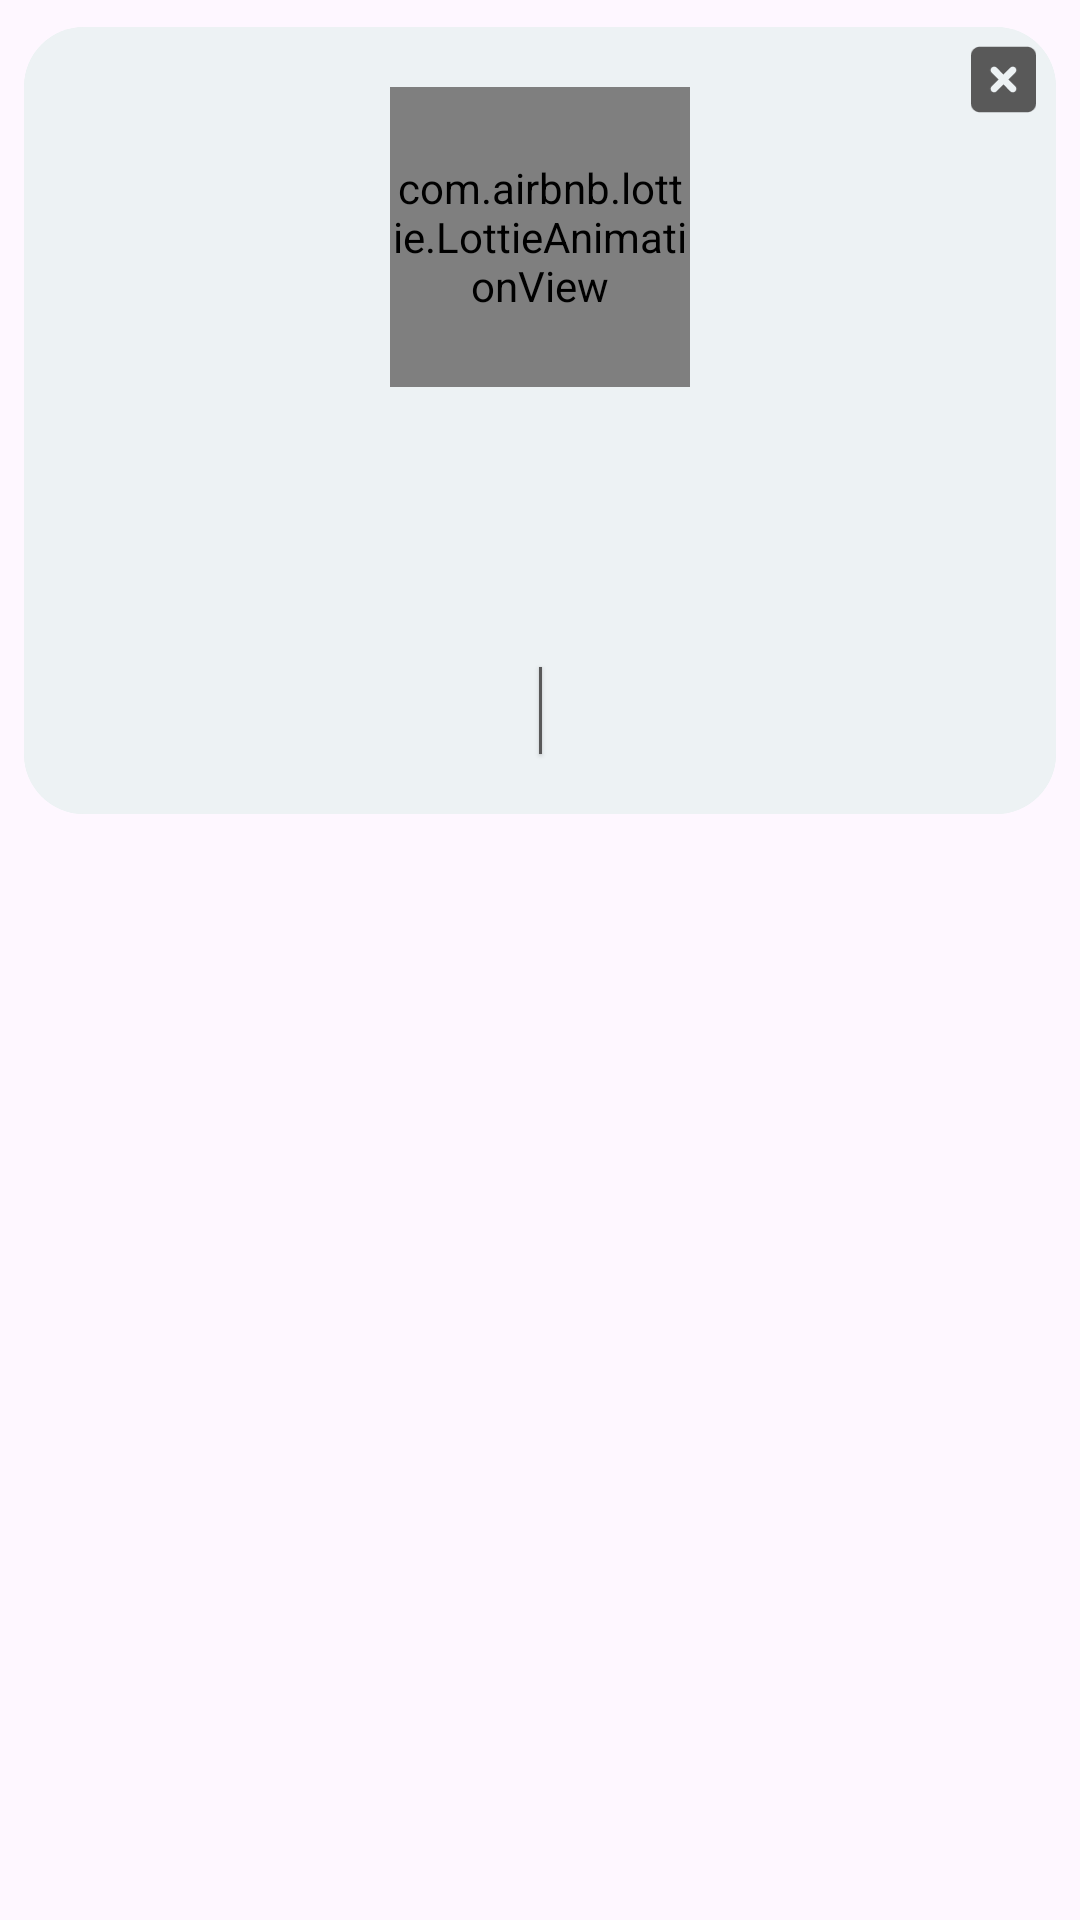

Point at icon controls on the screen. Image size 1080 x 1920, points as [x,y].
close: [1003,79]
